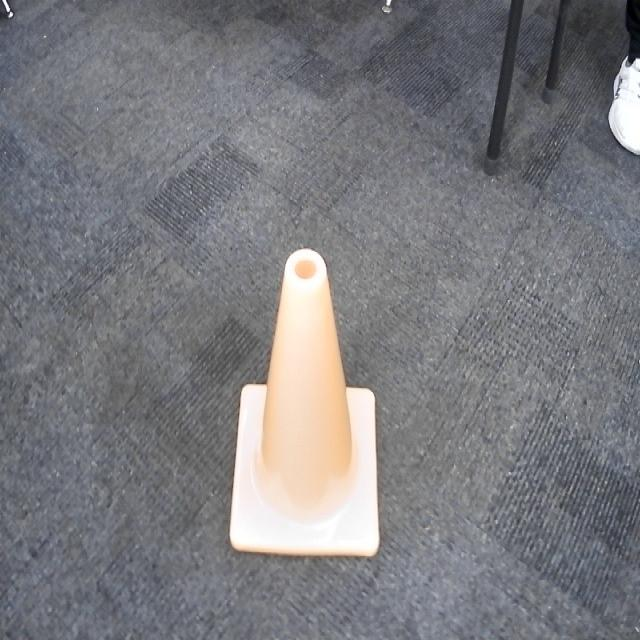cone: (226, 245, 379, 560)
